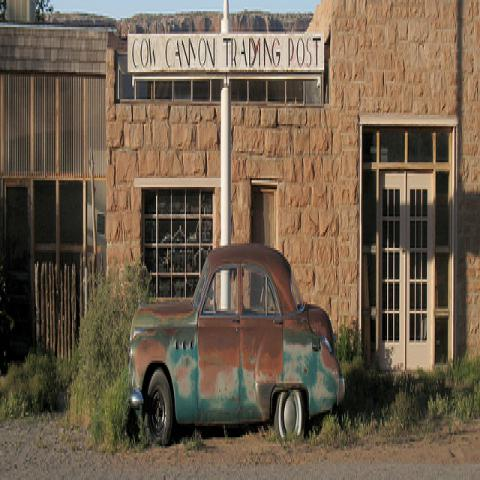car: (128, 240, 349, 450)
